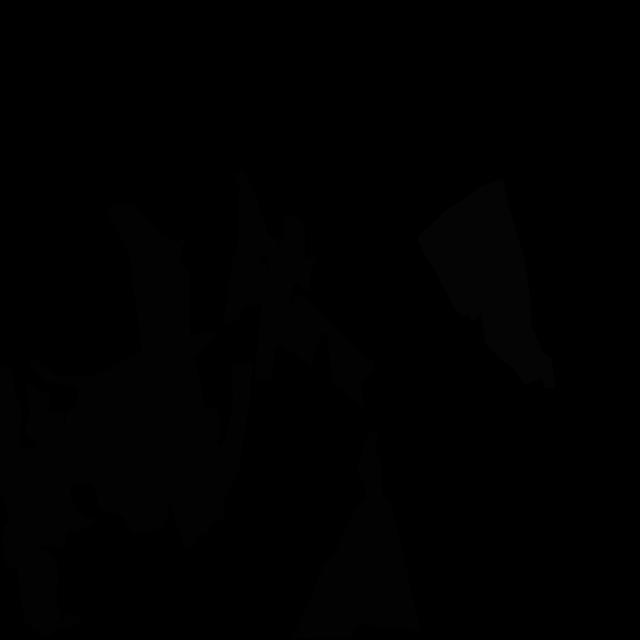cardboard: (0, 351, 253, 638), (290, 430, 422, 639), (106, 204, 220, 425), (232, 169, 316, 383), (282, 293, 374, 409), (222, 247, 268, 323)
soft_plastic: (418, 179, 555, 389)
